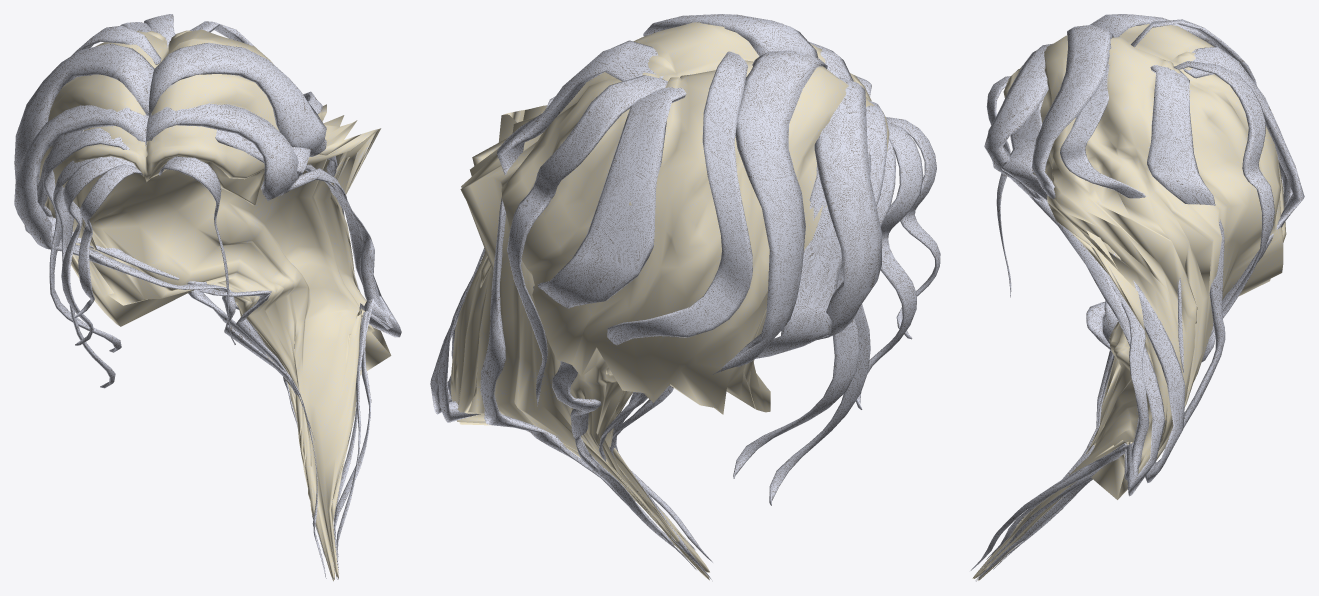
Rendered from hair.dae.
3 renders of one model, left to right at view 1: azimuth 30°, elevation 25°; view 2: azimuth 150°, elevation 25°; view 3: azimuth 270°, elevation 25°, orthographic. The views are drawn at different scales.
Visible parts, largest first — view 1: instance_0, instance_0_004, instance_0_011, instance_0_003, instance_0_005, instance_0_002, instance_0_001, instance_0_016, instance_0_013, instance_0_012, instance_0_015, instance_0_014 (+3 smaller); view 2: instance_0, instance_0_006, instance_0_005, instance_0_010, instance_0_003, instance_0_007, instance_0_008, instance_0_001, instance_0_016, instance_0_011, instance_0_013, instance_0_015 (+3 smaller); view 3: instance_0, instance_0_011, instance_0_004, instance_0_007, instance_0_002, instance_0_008, instance_0_006, instance_0_009, instance_0_010, instance_0_005, instance_0_001, instance_0_014 (+1 smaller).
Part boxes in pixels (x1,y1,x2,y2): instance_0: (39, 29, 391, 581); instance_0_004: (146, 103, 401, 549); instance_0_011: (148, 43, 359, 559); instance_0_003: (14, 105, 324, 555); instance_0_005: (14, 43, 285, 369); instance_0_002: (215, 129, 393, 571); instance_0_001: (24, 130, 326, 578); instance_0_016: (43, 128, 129, 352); instance_0_013: (61, 158, 142, 345); instance_0_012: (74, 164, 142, 317); instance_0_015: (53, 156, 135, 388); instance_0_014: (158, 156, 235, 344); instance_0: (450, 22, 889, 580); instance_0_006: (533, 87, 686, 556); instance_0_005: (598, 50, 827, 569); instance_0_010: (607, 51, 752, 345); instance_0_003: (609, 77, 881, 564); instance_0_007: (480, 40, 677, 547); instance_0_008: (507, 75, 667, 406); instance_0_001: (613, 152, 870, 580); instance_0_016: (733, 100, 886, 478); instance_0_011: (437, 14, 818, 501); instance_0_013: (855, 121, 923, 409); instance_0_015: (769, 139, 896, 505); instance_0: (972, 24, 1286, 580); instance_0_011: (983, 25, 1185, 567); instance_0_004: (984, 43, 1165, 559); instance_0_007: (975, 65, 1225, 580); instance_0_002: (969, 97, 1149, 571); instance_0_008: (1174, 61, 1274, 335); instance_0_006: (976, 47, 1304, 581); instance_0_009: (1060, 64, 1183, 372); instance_0_010: (1131, 19, 1292, 207); instance_0_005: (993, 14, 1216, 569); instance_0_001: (1062, 302, 1114, 479); instance_0_014: (986, 76, 1011, 297).
Bounding box in the file's own units: 0.3177 × 0.2534 × 0.4229.
